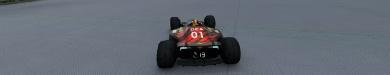Car: (155, 14, 240, 68)
grass: (0, 0, 389, 74)
